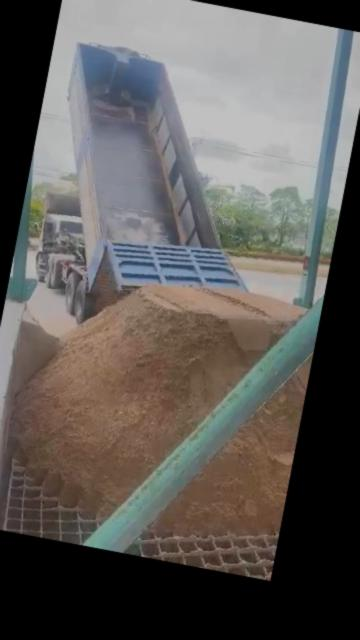sand: (10, 285, 301, 516), (158, 359, 311, 534), (14, 314, 59, 395)
